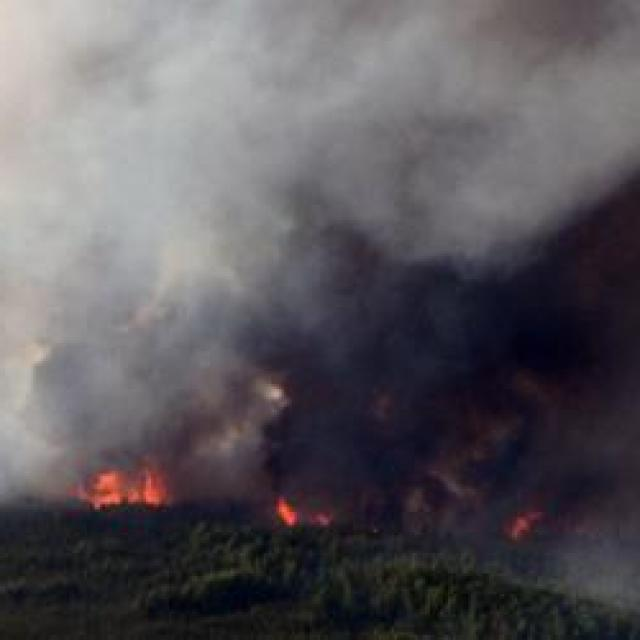fire: (96, 474, 162, 508), (276, 496, 294, 526)
smoke: (422, 179, 636, 437), (162, 214, 404, 392), (0, 242, 148, 459), (390, 456, 632, 550), (359, 95, 512, 238), (229, 7, 413, 92), (466, 2, 624, 82)
